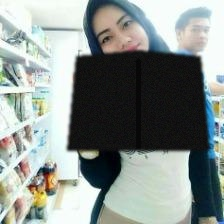Cadar_Niqab: (67, 0, 209, 150)
